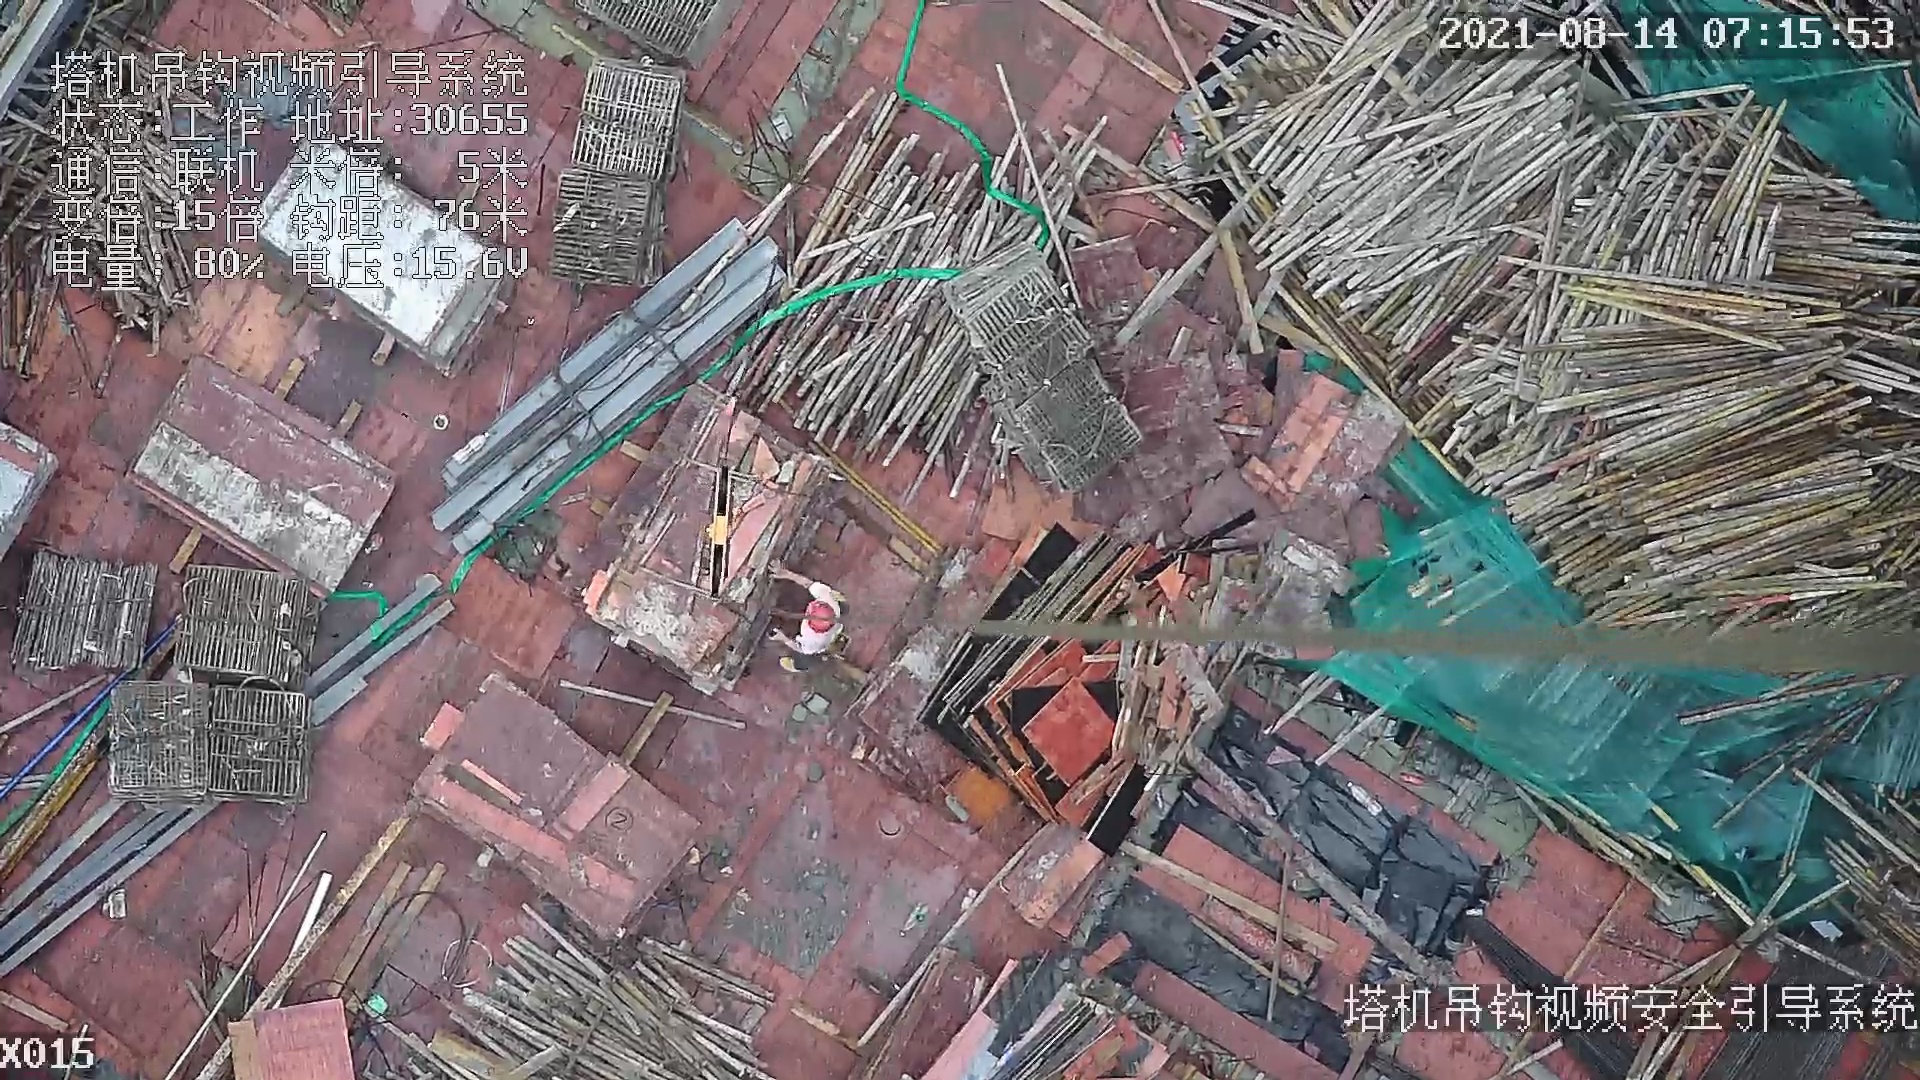helmet: (804, 598, 840, 637)
hook: (701, 459, 737, 605)
person: (769, 563, 856, 673)
